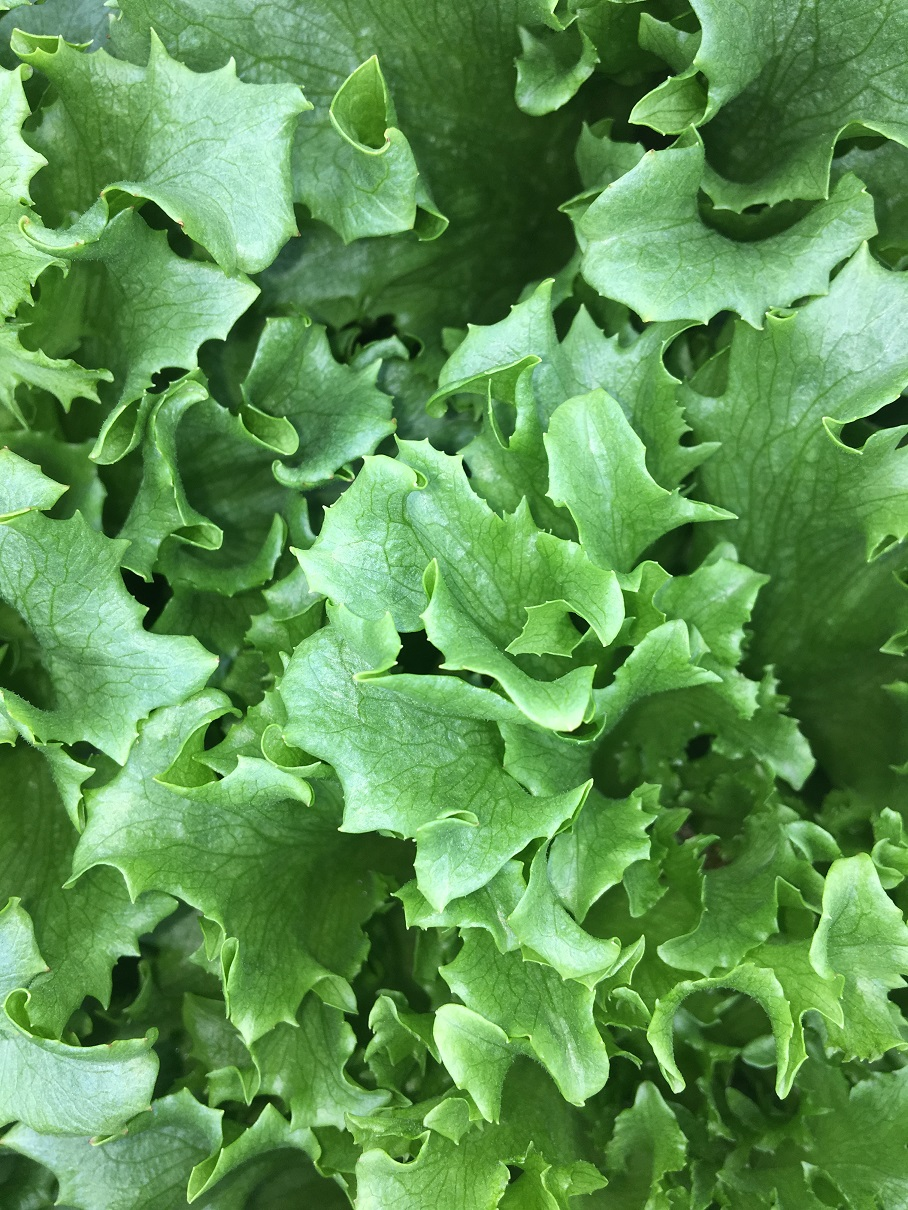tipburn: (69, 1120, 108, 1165), (60, 224, 102, 264), (370, 122, 408, 163), (8, 201, 45, 239), (164, 206, 200, 243), (79, 175, 114, 213), (27, 952, 59, 988), (138, 1093, 175, 1124), (98, 1038, 125, 1066), (116, 1108, 137, 1140), (643, 143, 665, 169)
